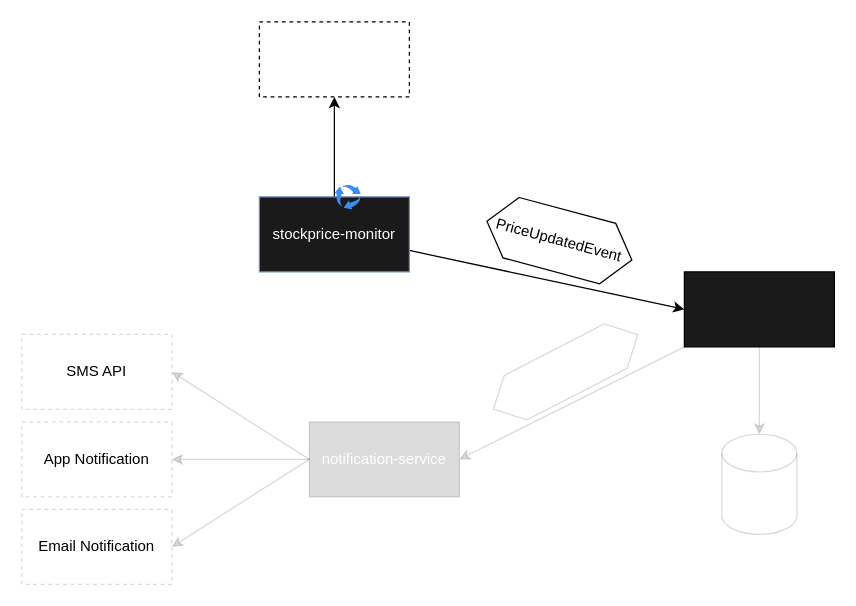
Image size: 856x606. Some labels were removed from this diagram. Here are the shapes that lost their labels. From the top down, the box of each, then its label:
(258, 21, 409, 97): StockPrice API
(683, 271, 834, 347): trading-platform
(480, 311, 649, 432): PriceThresholdEvent
